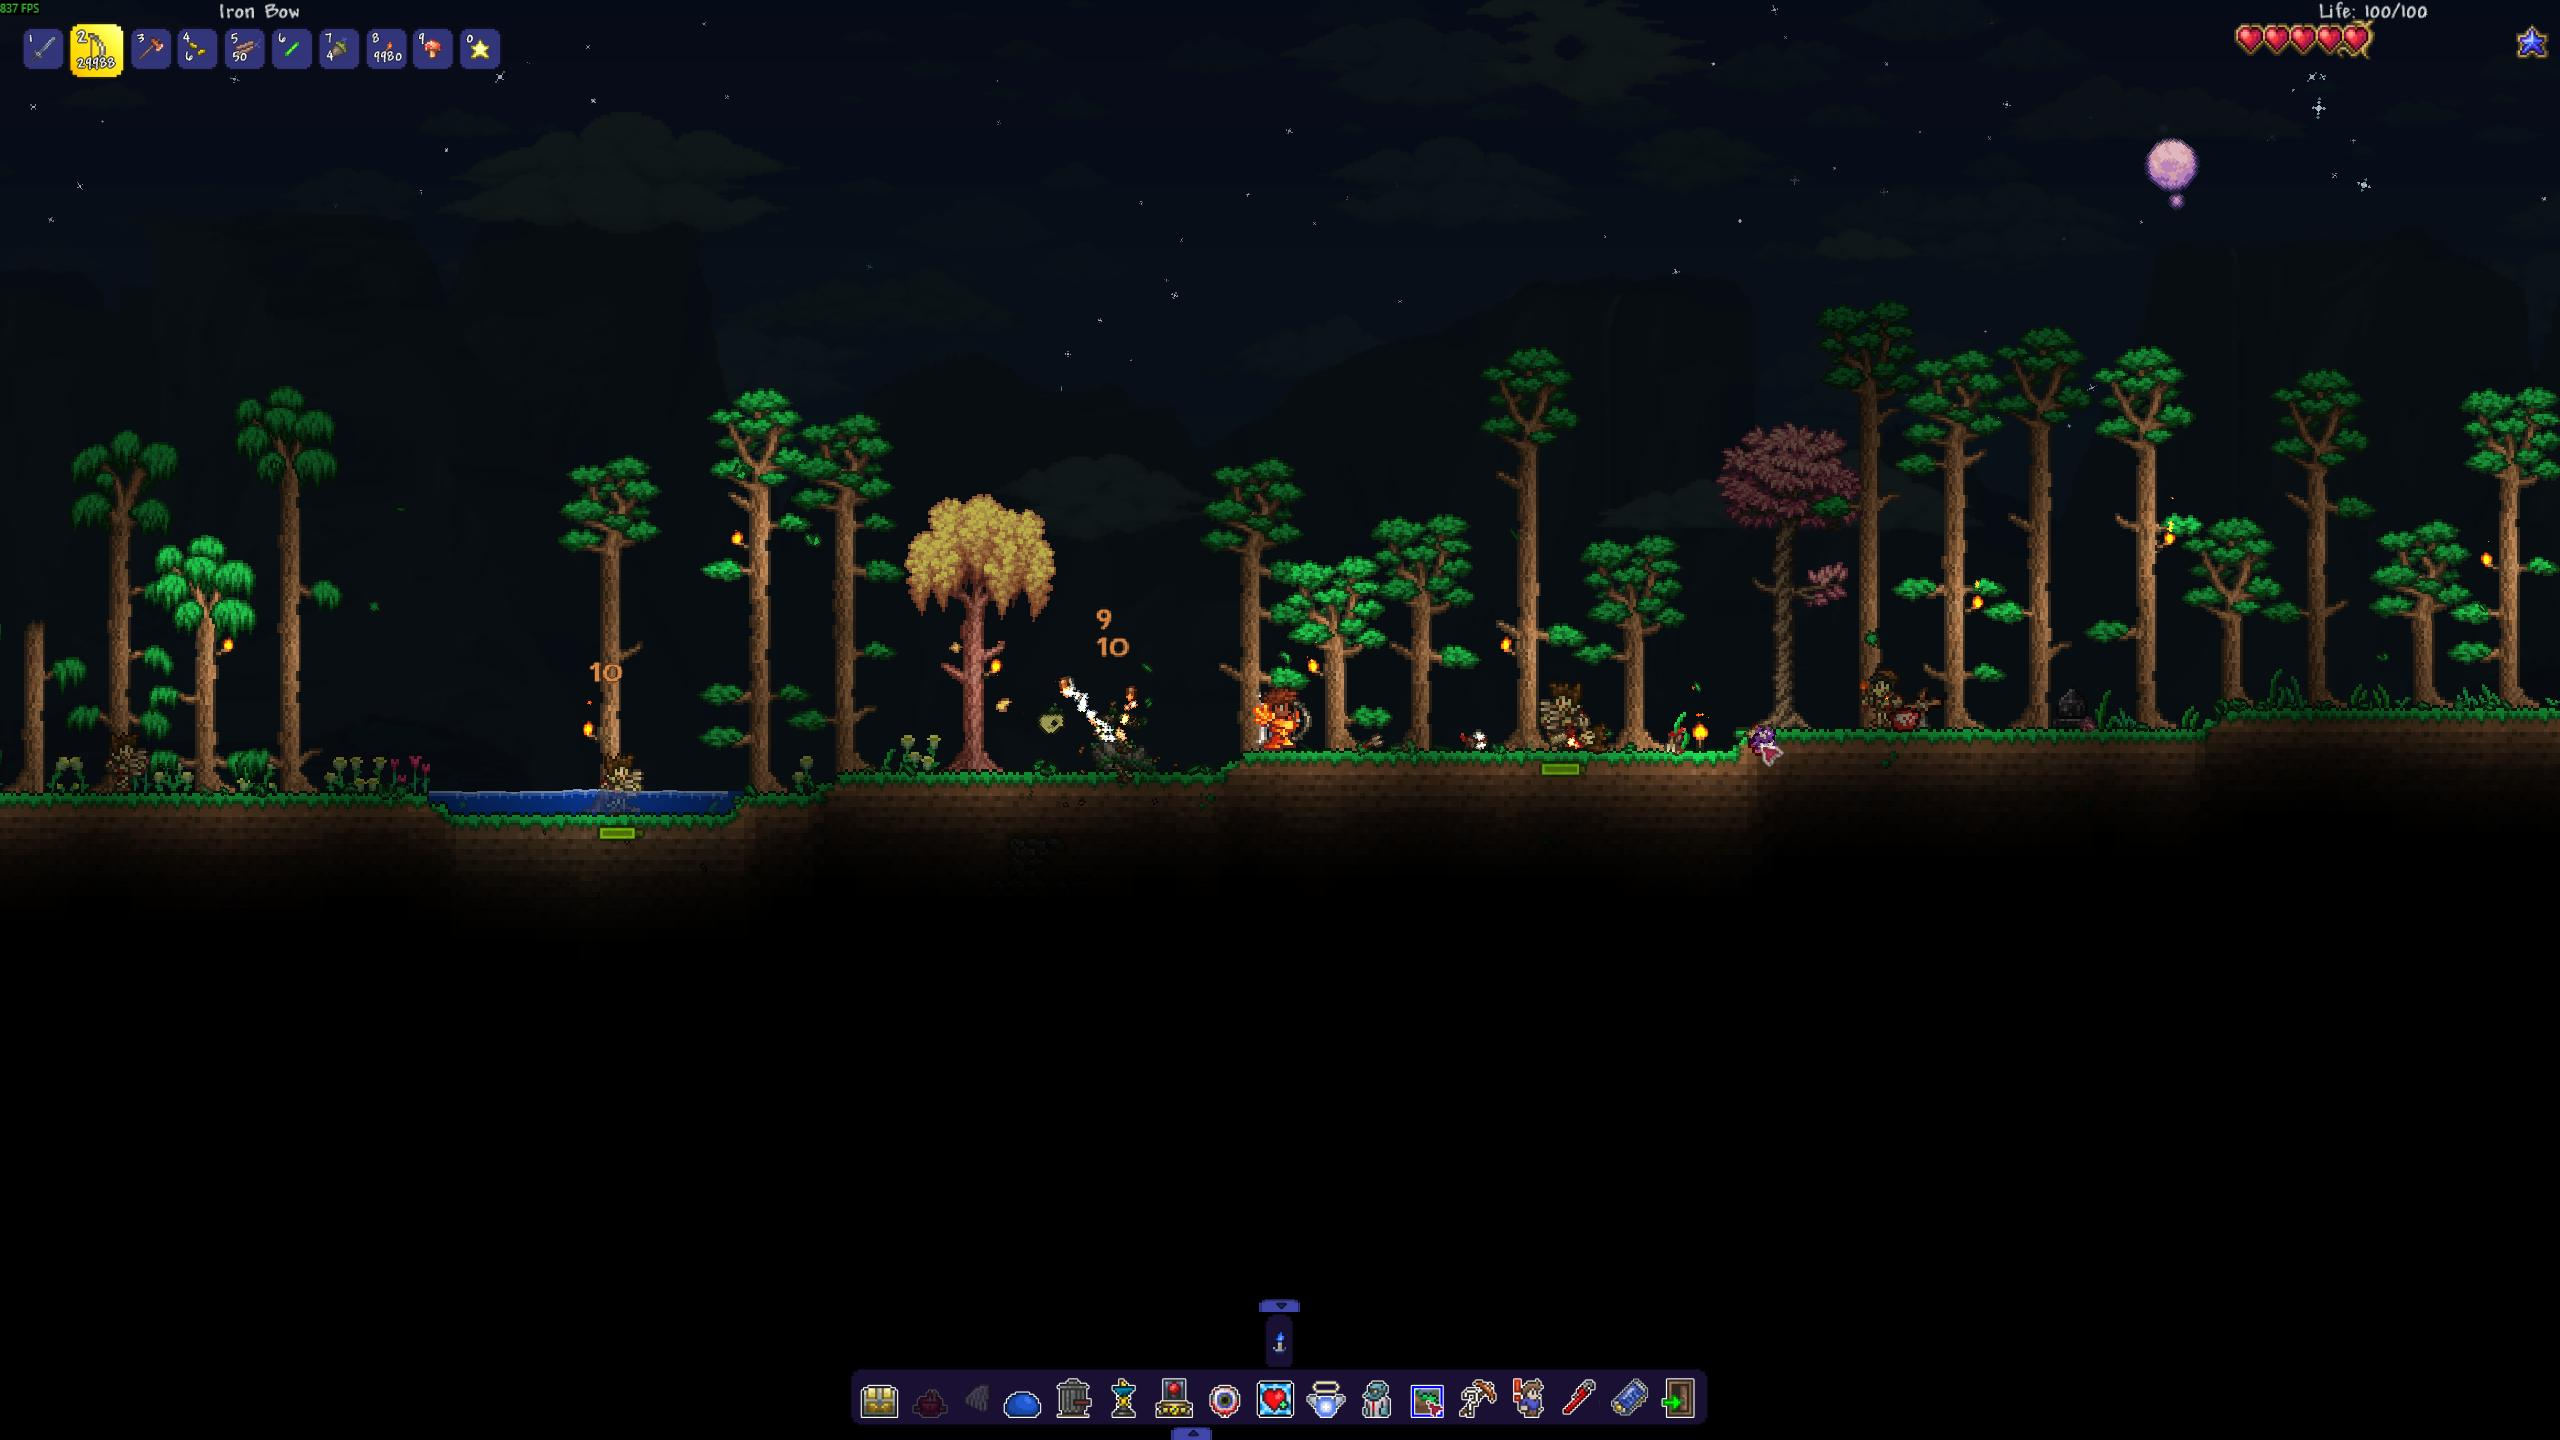Zombie: (1531, 679, 1595, 749), (1855, 663, 1904, 730), (596, 747, 642, 814), (102, 726, 146, 795)
